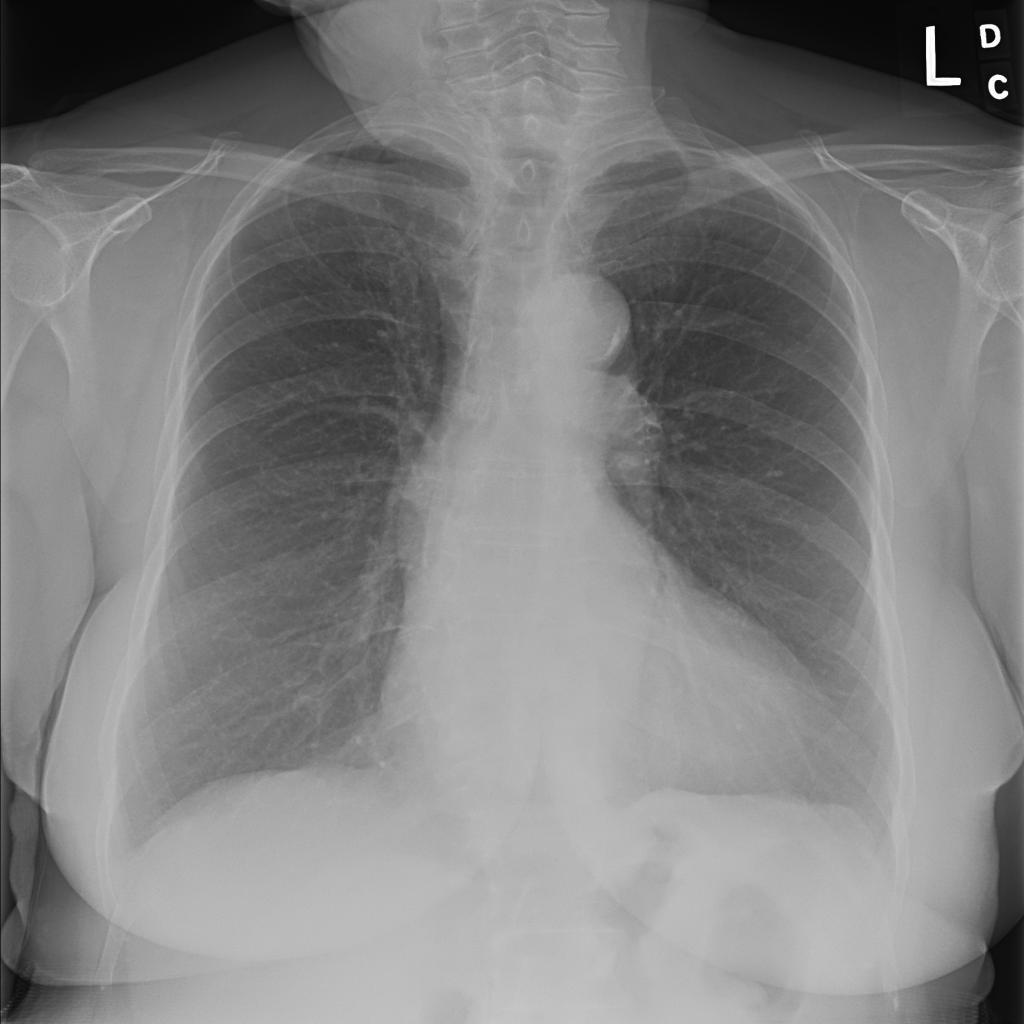Nodule: (224, 152, 277, 208)
